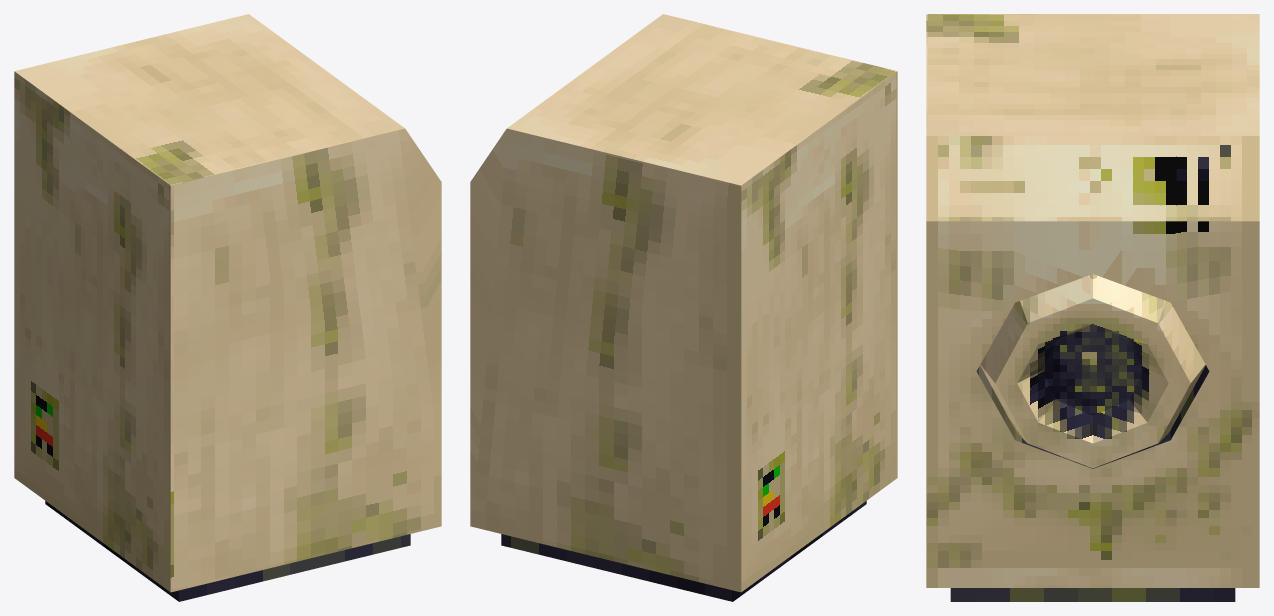
The model's file is psx-washingmachine.fbx.
The picture shows the model from 3 angles, left to right: view 1: azimuth 30°, elevation 25°; view 2: azimuth 150°, elevation 25°; view 3: azimuth 270°, elevation 25°; orthographic projection. The views are drawn at different scales.
Visible parts, largest first — view 1: wm-body; view 2: wm-body; view 3: wm-body, wm-front-door.
Part boxes in pixels (x1,y1,x2,y2): wm-body: (14,14,441,601); wm-body: (470,14,897,601); wm-body: (926,14,1259,601); wm-front-door: (980,274,1205,468).
Bounding box in the file's own units: 217 × 303 × 200.
